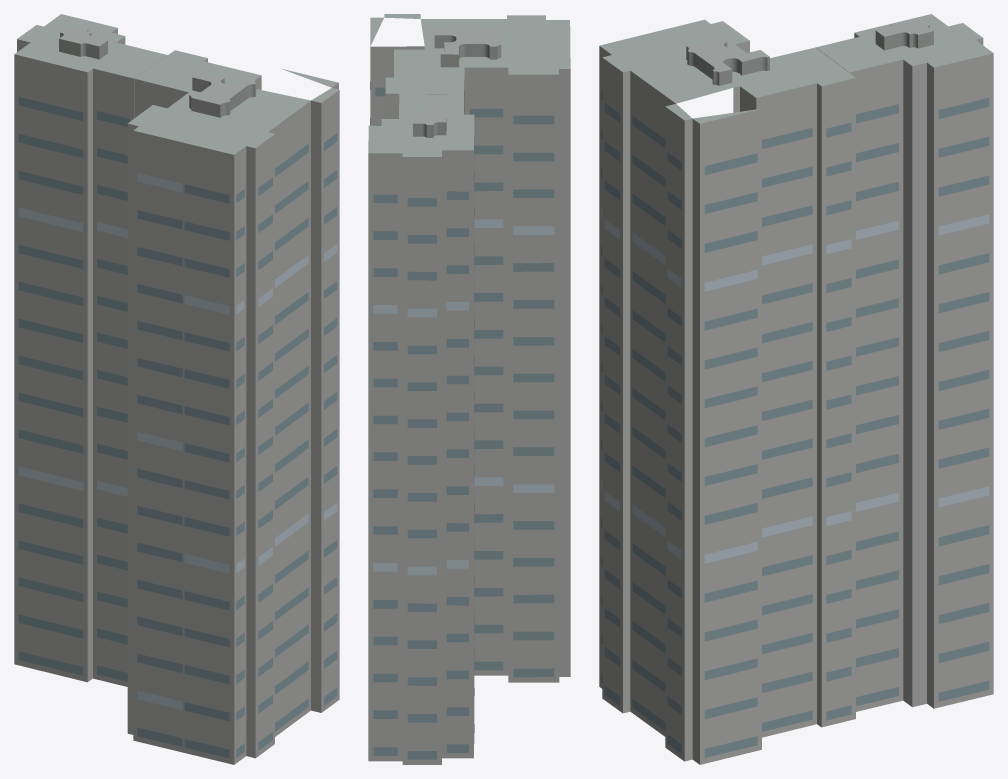
Rendered from fallback-acro-riverpark-106.glb.
The picture shows the model from 3 angles, left to right: view 1: azimuth 30°, elevation 25°; view 2: azimuth 150°, elevation 25°; view 3: azimuth 270°, elevation 25°; orthographic projection. The views are drawn at different scales.
Visible parts, largest first — view 1: fallback-acro-riverpark-106; view 2: fallback-acro-riverpark-106; view 3: fallback-acro-riverpark-106.
Boxes of the visible parts, x1,y1,x2,y2 form: fallback-acro-riverpark-106: (14, 14, 339, 764); fallback-acro-riverpark-106: (368, 14, 570, 764); fallback-acro-riverpark-106: (599, 14, 993, 764).
Size of the model in its own units: 41.39 by 115 by 62.79.
